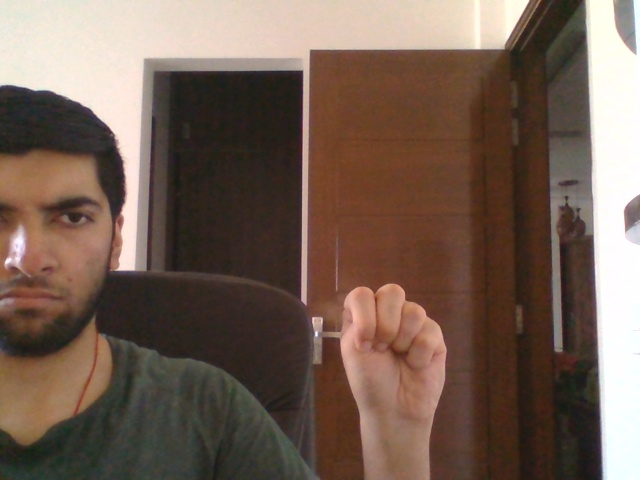LetterM: (338, 282, 447, 436)
